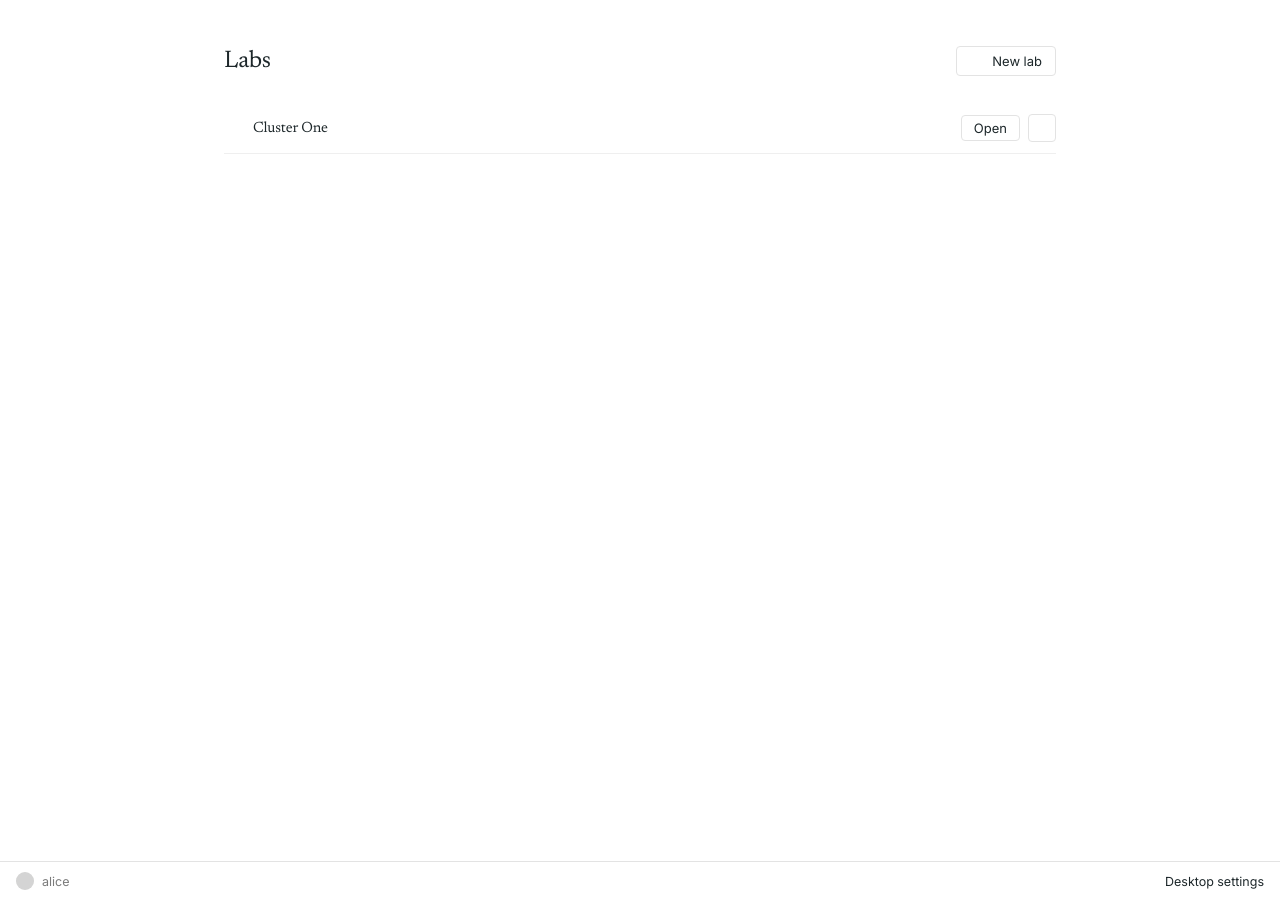
Test: App connect phases › shows progress, phase updates and a failure card
Later steps or results of the test are not shown.
Click the button "Open" at x=990, y=128, box [961, 115, 1020, 141]
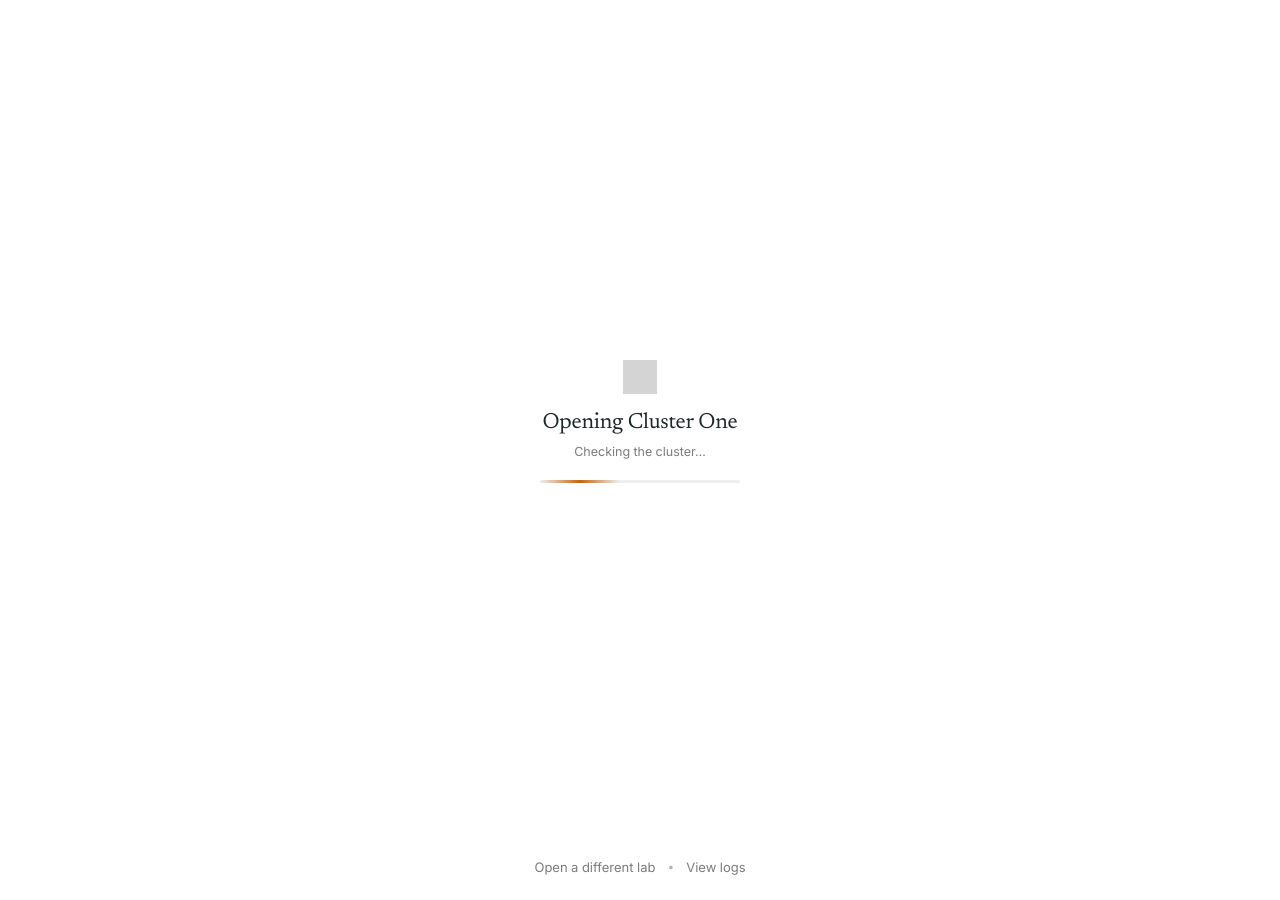
Now the text "Opening Cluster One" is shown, box [542, 412, 738, 434]
Now the text "Checking the cluster…" is shown, box [574, 442, 706, 462]
